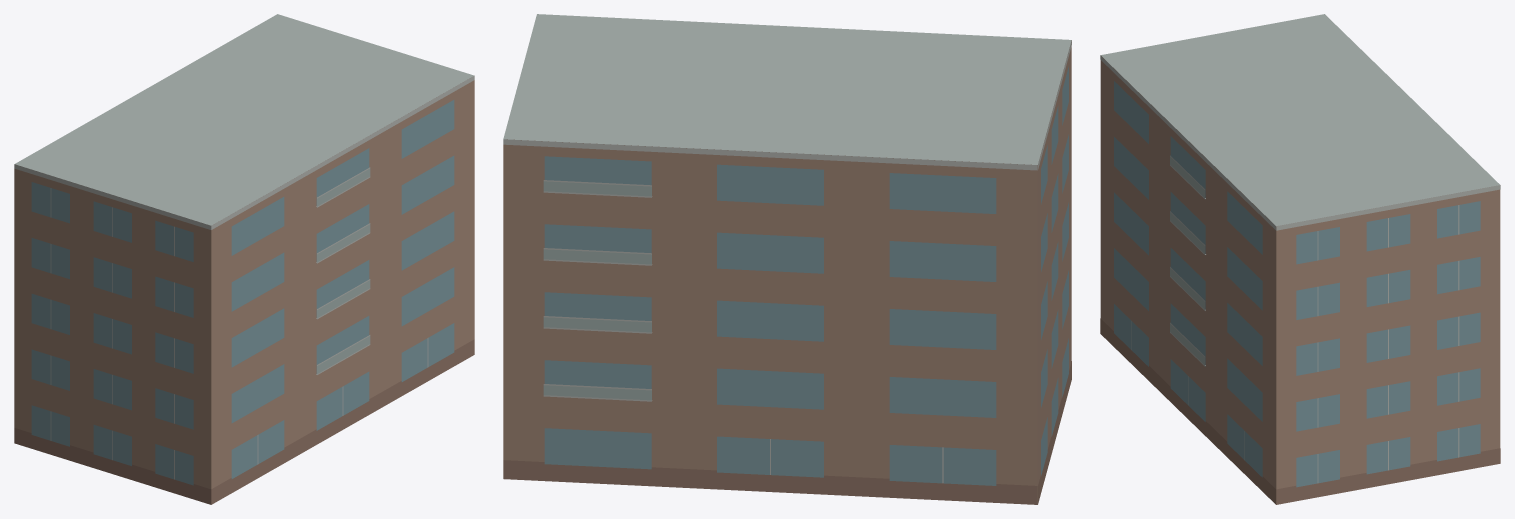
Rendered from residential-bdac760f-ce5c-450a-b058-cb1924455894.glb.
The picture shows the model from 3 angles, left to right: view 1: azimuth 30°, elevation 25°; view 2: azimuth 150°, elevation 25°; view 3: azimuth 270°, elevation 25°; orthographic projection. The views are drawn at different scales.
Parts seen in each view (by area): view 1: residential-bdac760f-ce5c-450a-b058-cb1924455894.tmp; view 2: residential-bdac760f-ce5c-450a-b058-cb1924455894.tmp; view 3: residential-bdac760f-ce5c-450a-b058-cb1924455894.tmp.
Boxes of the visible parts, bbox=[...] form: residential-bdac760f-ce5c-450a-b058-cb1924455894.tmp: bbox=[14, 14, 474, 504]; residential-bdac760f-ce5c-450a-b058-cb1924455894.tmp: bbox=[503, 14, 1071, 504]; residential-bdac760f-ce5c-450a-b058-cb1924455894.tmp: bbox=[1100, 14, 1500, 504].
Bounding box in the file's own units: 24.92 × 15.25 × 19.85.
